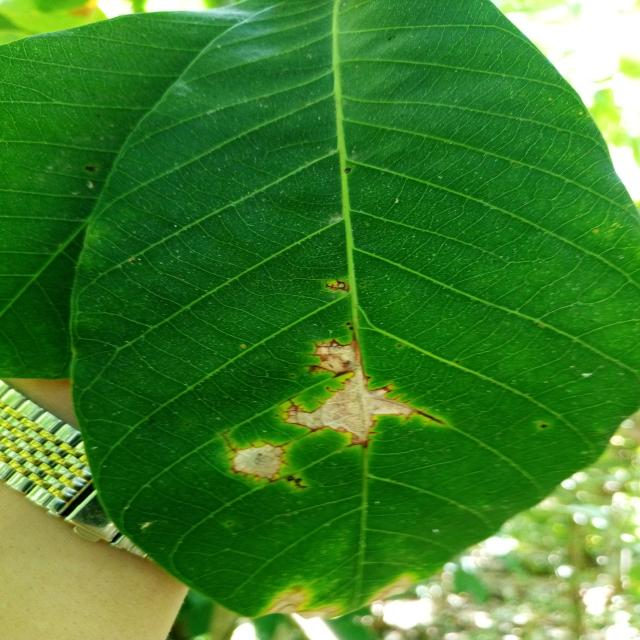Colletotrichum: (344, 168, 352, 174)
Corynespora: (221, 434, 294, 484), (280, 394, 304, 412), (418, 410, 443, 424), (324, 280, 349, 292), (285, 476, 308, 489)
Leaf-Blight: (286, 341, 422, 443), (233, 444, 284, 478)
